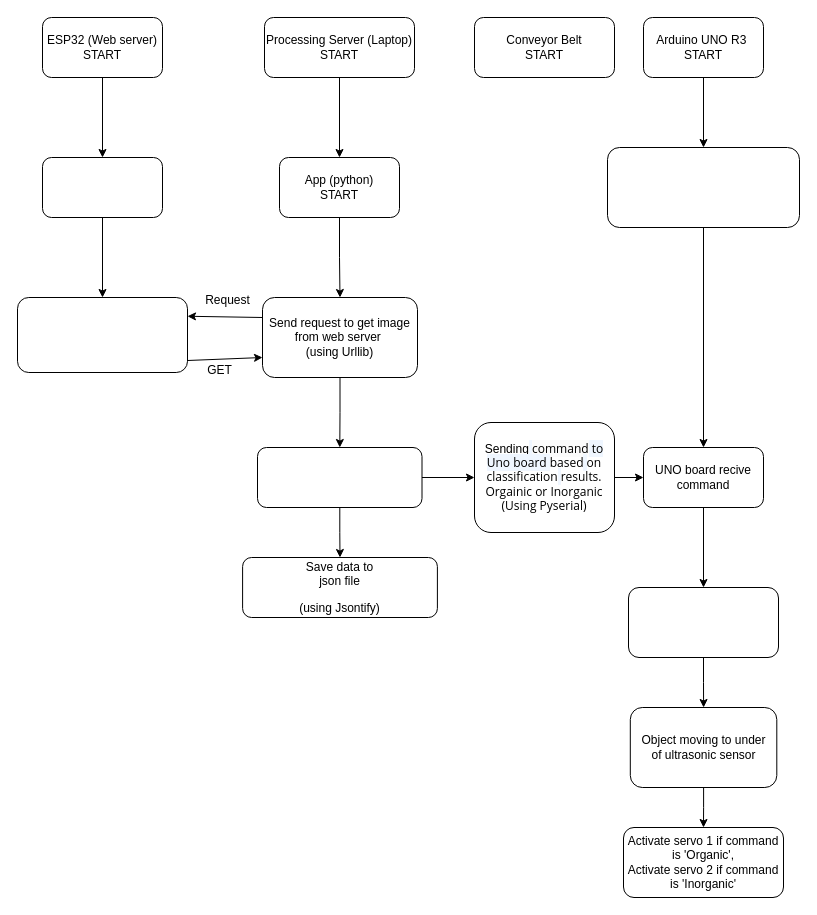
This 817x915 diagram has some shape labels left out. Here are the shapes that lost their labels. From the top down, the centre of each, then its label:
the point at 102,187: ESP32 Capture Image
the point at 703,187: Ultrasonic sensor (SRF05) activate to check the location of object in belt
the point at 102,334: ESP32 Create endpoint to GET image (Restful API)
the point at 339,477: Process image and classification (using OpenCV)
the point at 703,622: Servo 3 push object to conveyor belt
